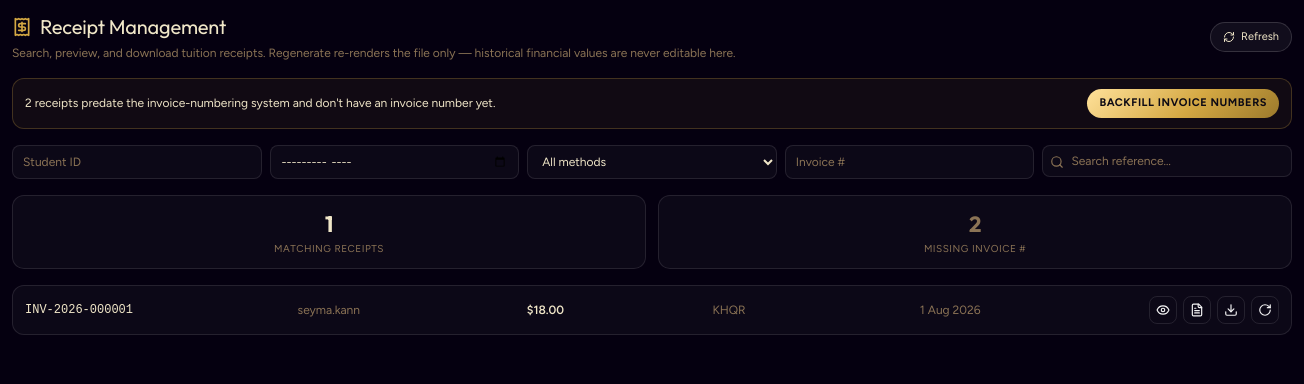
clicking Backfill Invoice Numbers calls the API and reloads
The width and height of the screenshot is (1304, 384).
Click the button with test id "receipt-backfill-btn".
click(1183, 103)  # box [1087,89,1279,118]
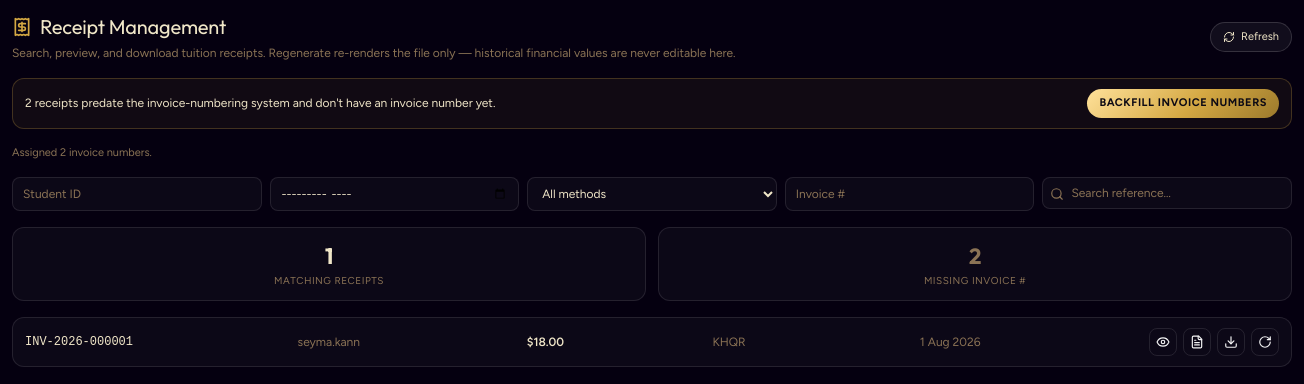
Now the text "Assigned 2 invoice numbers." is shown, box [12,146,152,158]
